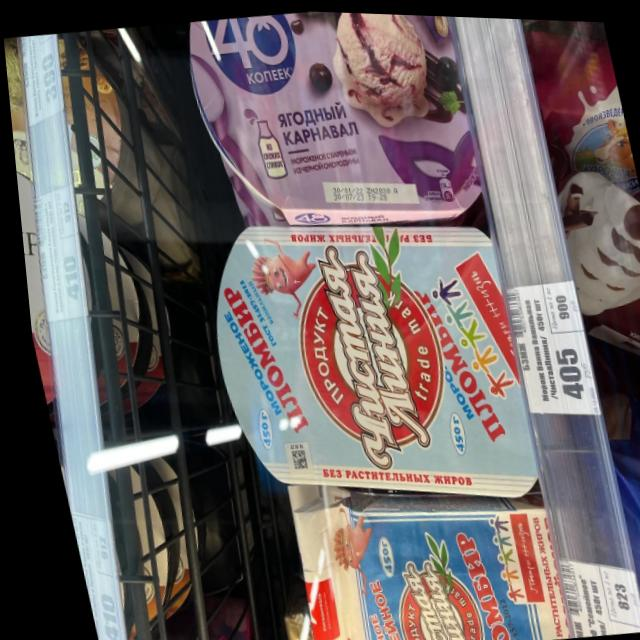datamatrix: (280, 445, 300, 469)
